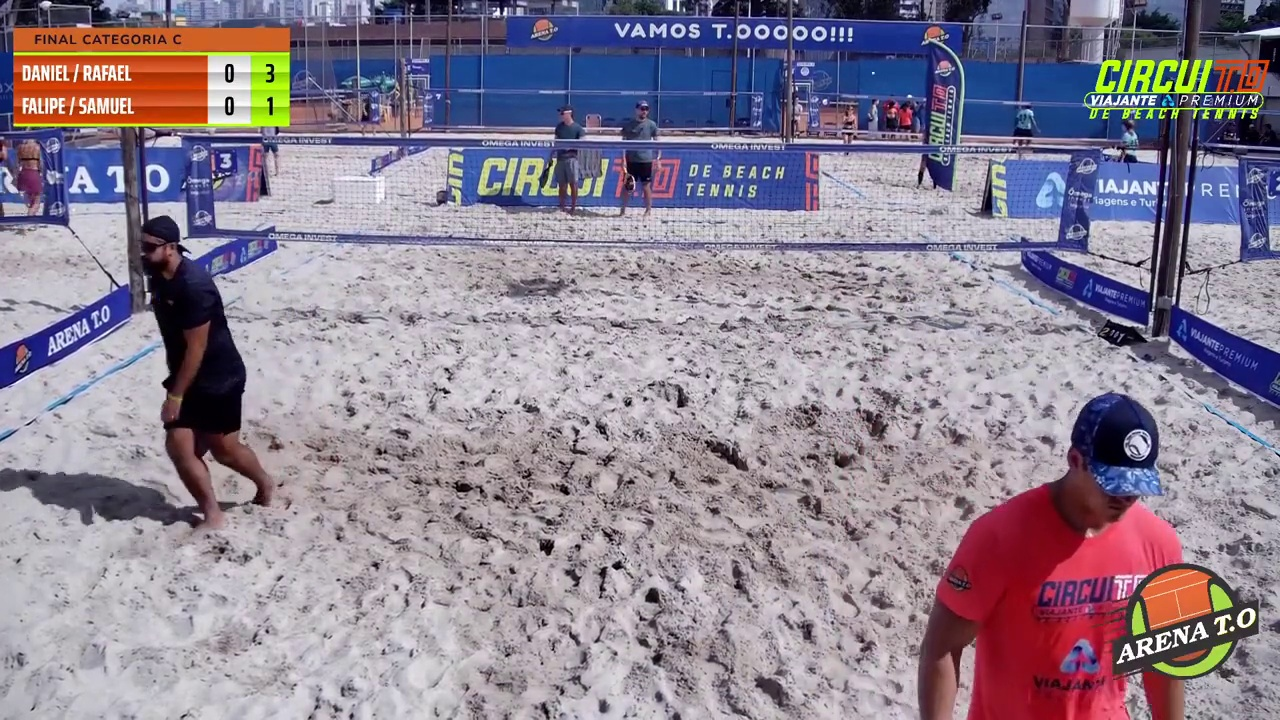court_line: (647, 0, 803, 353)
